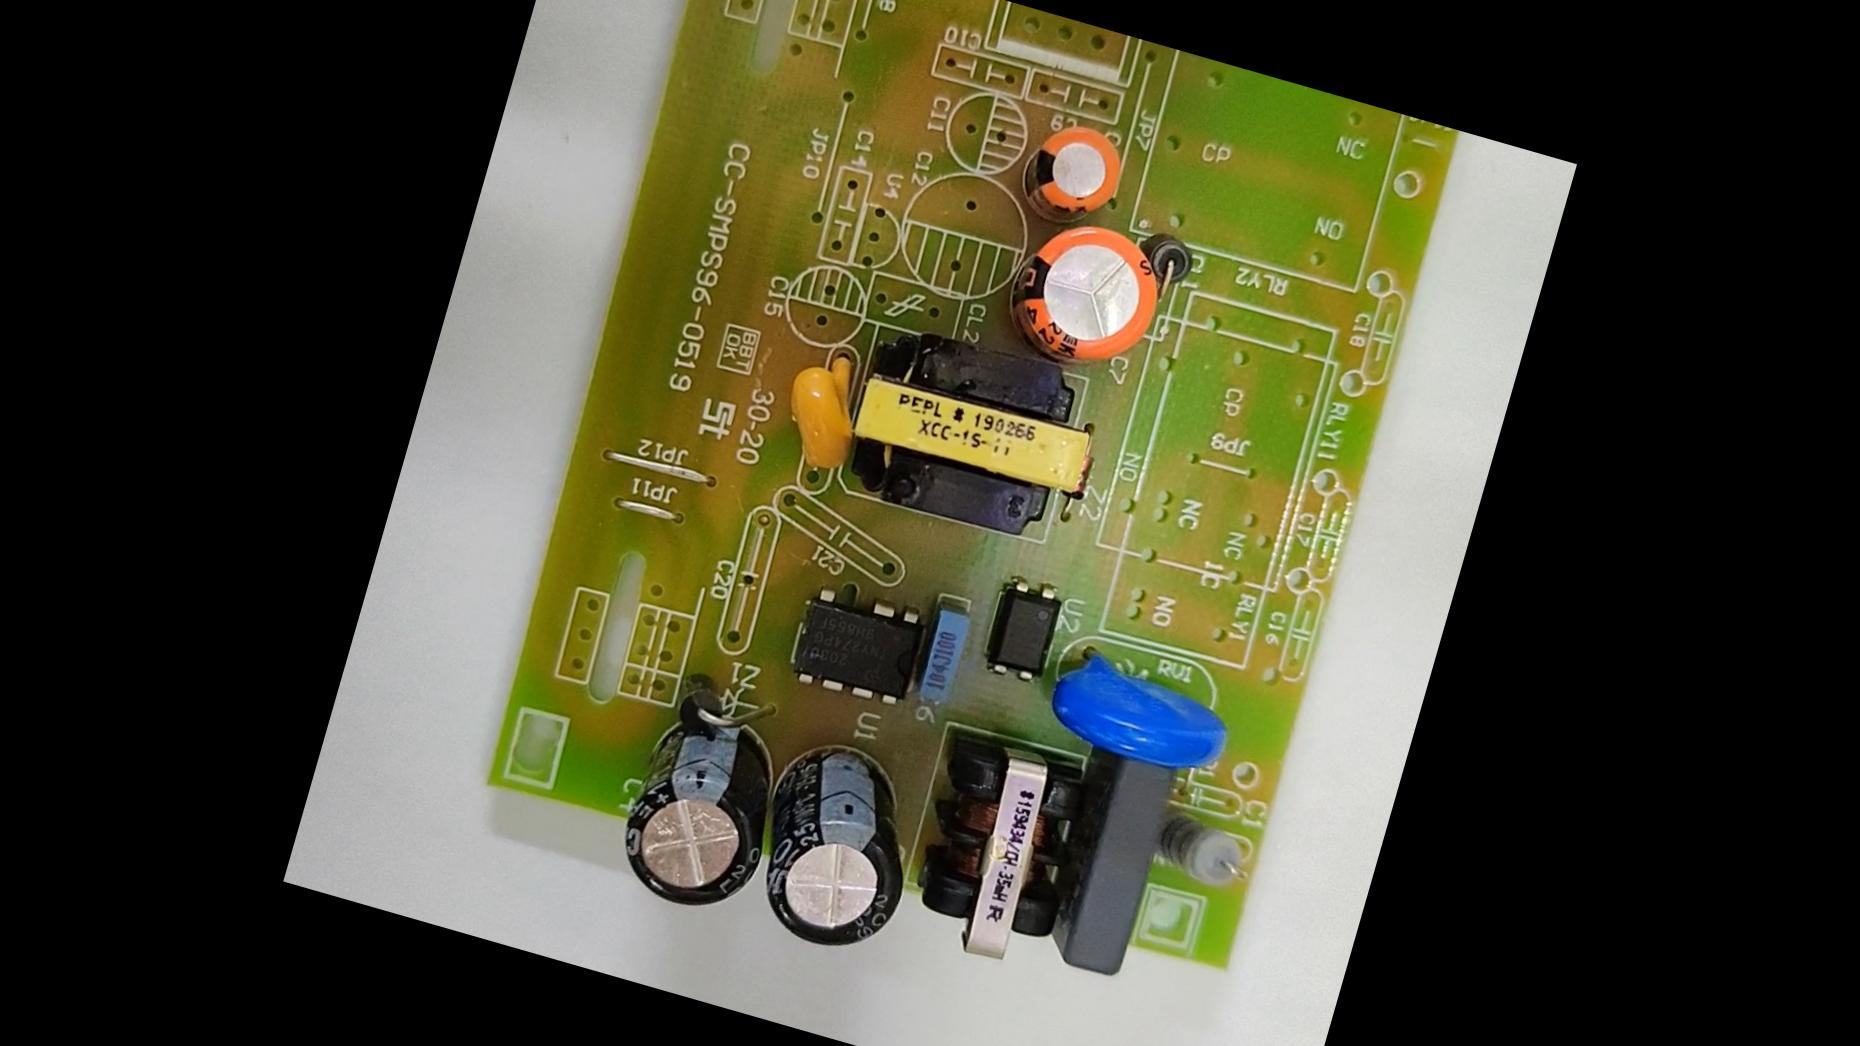Cap1: (979, 201, 1182, 384)
Cap2: (993, 100, 1142, 238)
Cap3: (738, 733, 945, 974)
Cap4: (594, 685, 805, 931)
MOSFET: (774, 568, 940, 723)
Mov: (1030, 628, 1252, 793)
Resistor: (1151, 801, 1254, 894)
Transformer: (821, 294, 1131, 565), (889, 711, 1119, 987)
